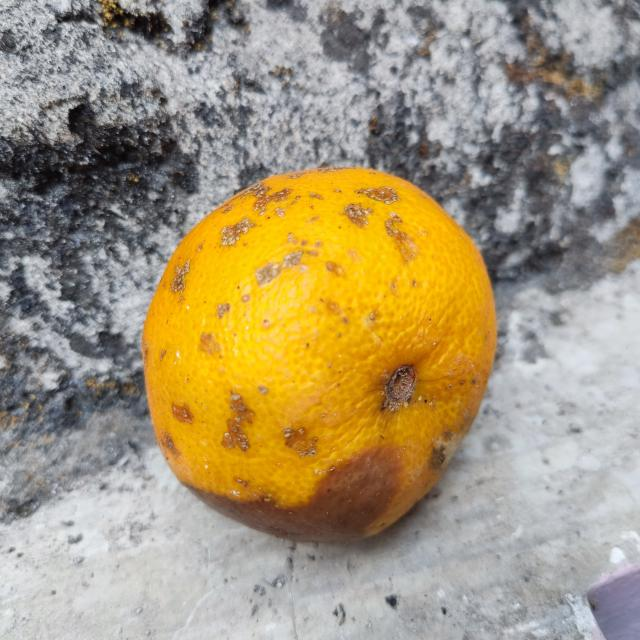orange: (141, 165, 496, 546)
